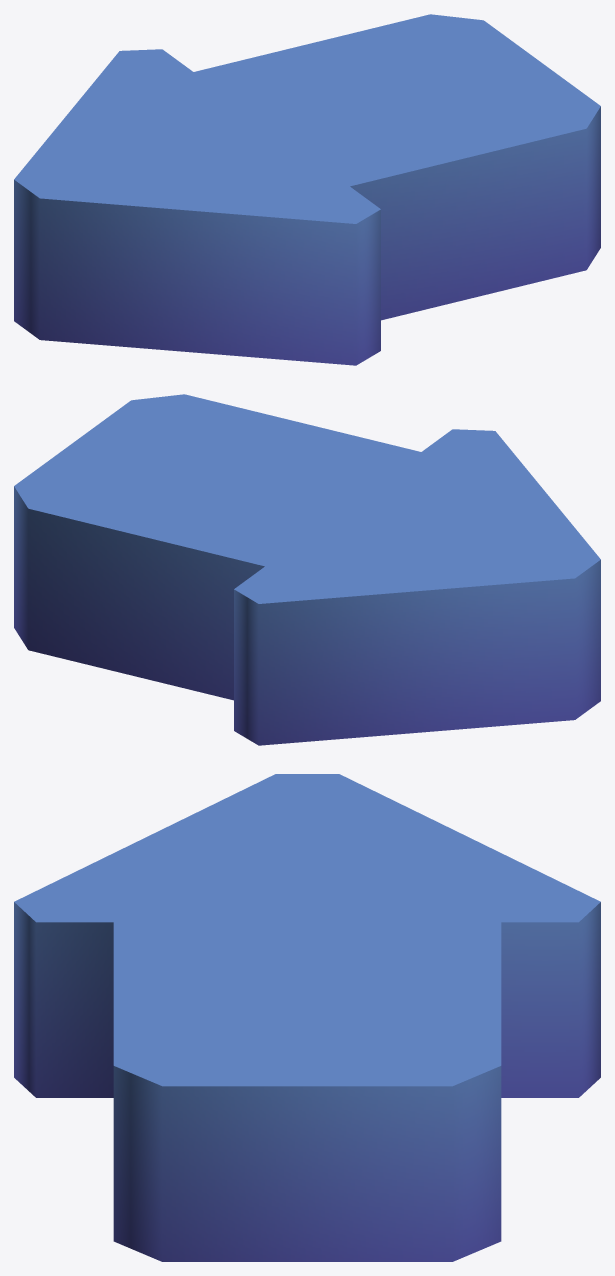
File: arrow-rounded.fbx
3 renders of one model, top to bottom at view 1: azimuth 30°, elevation 25°; view 2: azimuth 150°, elevation 25°; view 3: azimuth 270°, elevation 25°, orthographic. The views are drawn at different scales.
Parts seen in each view (by area): view 1: arrow-rounded; view 2: arrow-rounded; view 3: arrow-rounded.
Part boxes in pixels (box(x1,y1,x2,y2)): arrow-rounded: box(14, 14, 600, 365); arrow-rounded: box(14, 394, 600, 745); arrow-rounded: box(14, 774, 600, 1261).
Bounding box in the file's own units: 76.18 × 20 × 60.55.
1 material, 1 textured.
